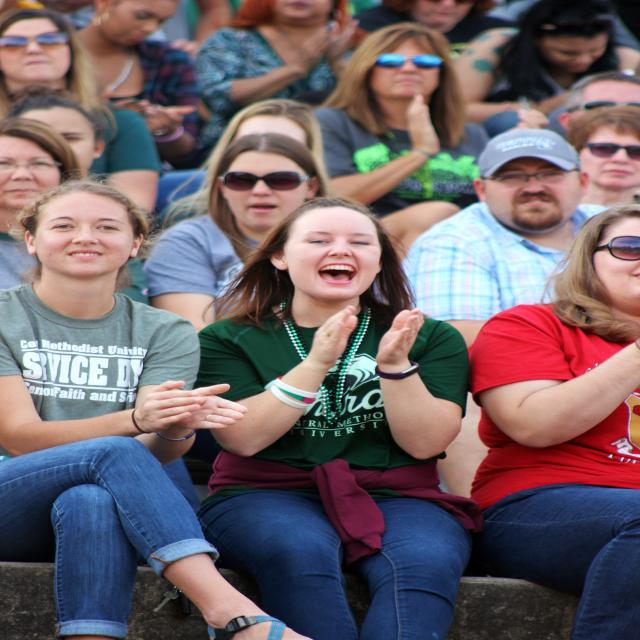body: (0, 178, 317, 640), (151, 195, 477, 640), (466, 197, 640, 639), (138, 130, 404, 336), (398, 125, 614, 347), (309, 22, 492, 264), (0, 0, 640, 62), (0, 7, 170, 226), (191, 0, 374, 162), (453, 0, 640, 122), (159, 96, 329, 228), (74, 0, 204, 168), (0, 119, 89, 292), (2, 90, 110, 180), (562, 103, 640, 221), (551, 69, 640, 131)
